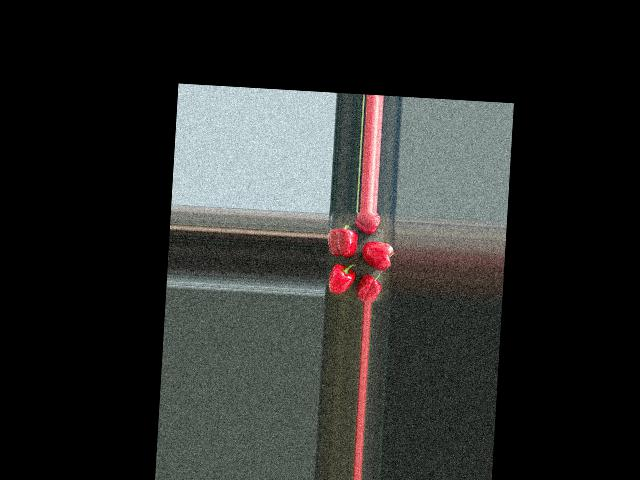bell_pepper: (353, 211, 385, 235)
